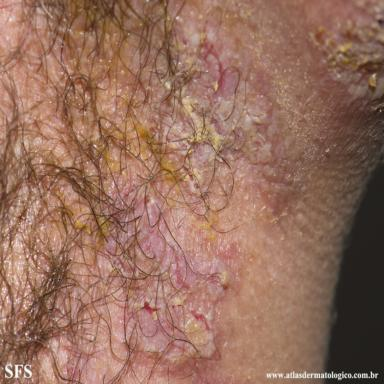Hailey-Hailey-Disease: (0, 0, 318, 384), (281, 0, 382, 117)
